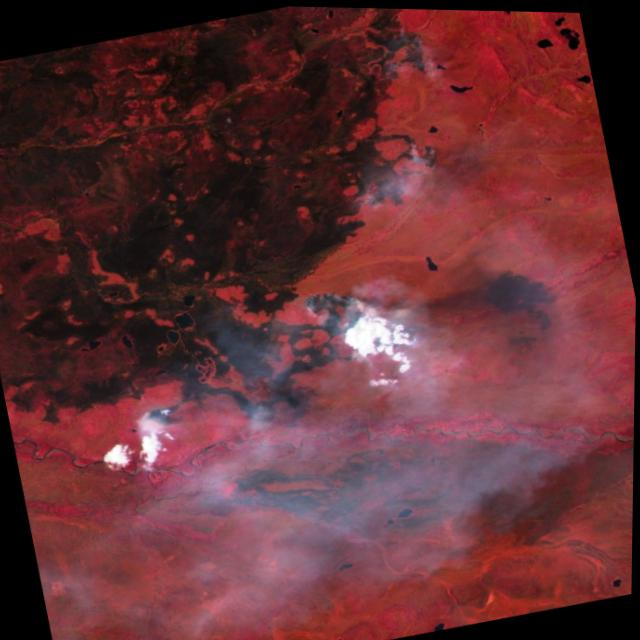fire: (274, 264, 408, 379), (350, 116, 458, 216), (377, 7, 452, 91), (109, 388, 192, 460), (214, 377, 280, 435)
